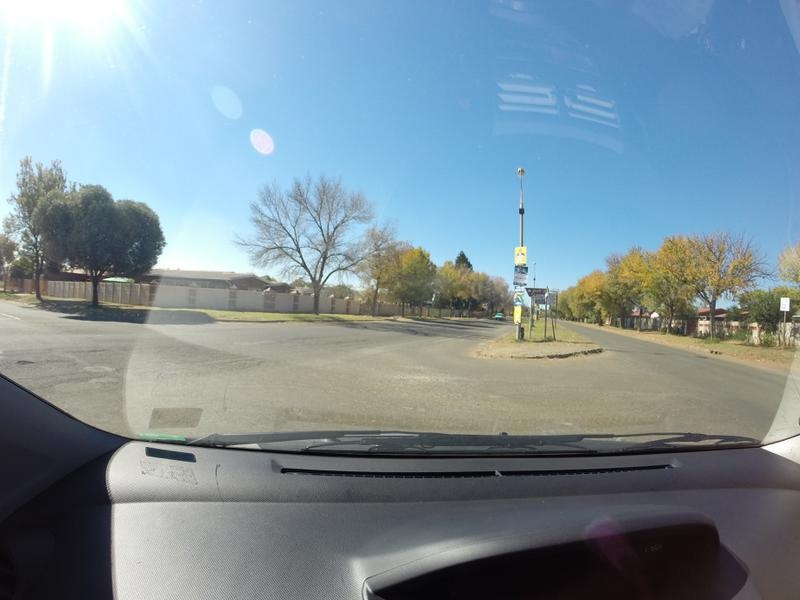pothole: (16, 357, 30, 364)
